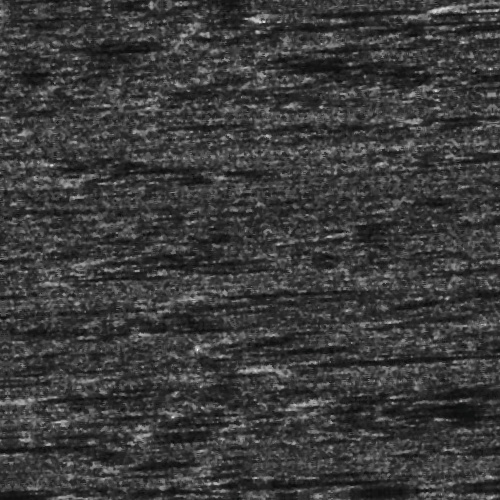object: (222, 363, 295, 372), (146, 289, 229, 296), (211, 347, 284, 354), (0, 381, 46, 392), (43, 482, 126, 487), (465, 11, 500, 22), (280, 399, 333, 406), (421, 489, 474, 494), (189, 481, 230, 486), (275, 16, 306, 19)
shadow: (20, 381, 206, 392), (259, 363, 434, 372), (307, 399, 486, 406), (188, 289, 324, 296), (209, 481, 382, 486), (248, 347, 352, 354), (85, 482, 182, 487), (291, 16, 403, 19), (447, 489, 500, 494)
